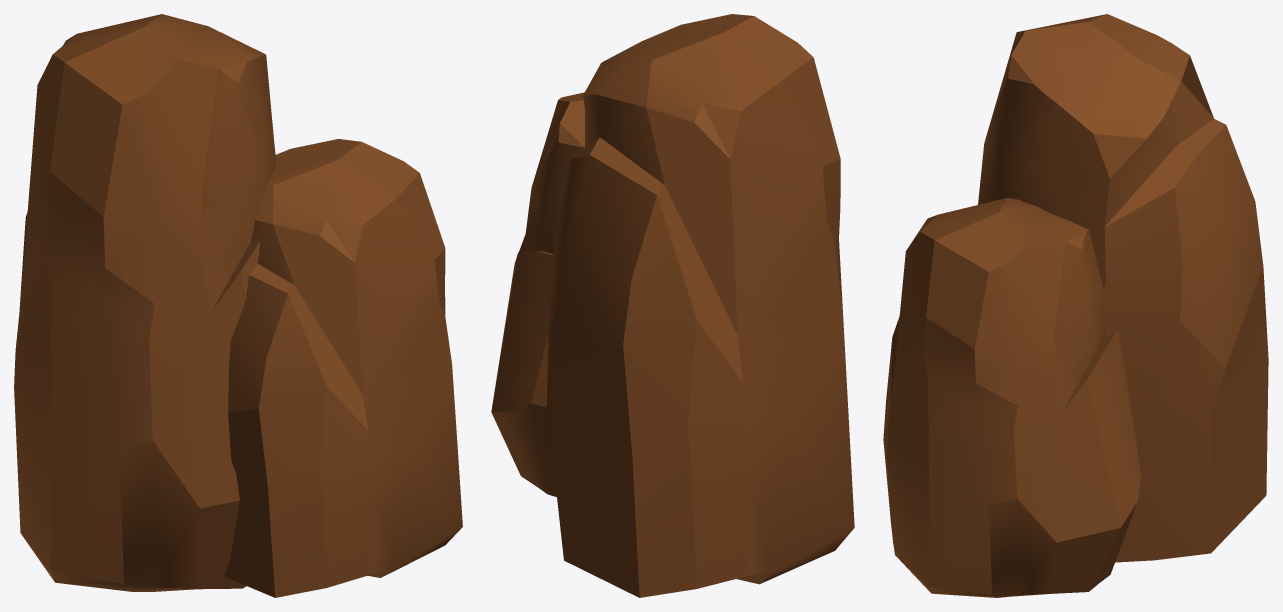
File: asteroid_rock_b.repacked.glb
3 views of the same model, side by side, from view 1: azimuth 30°, elevation 25°; view 2: azimuth 150°, elevation 25°; view 3: azimuth 270°, elevation 25° (orthographic). The views are drawn at different scales.
Visible parts, largest first — view 1: Rock_Large_3; view 2: Rock_Large_3; view 3: Rock_Large_3.
Part boxes in pixels (left/top/right/bottom): Rock_Large_3: left=14, top=14, right=462, bottom=597; Rock_Large_3: left=491, top=14, right=854, bottom=597; Rock_Large_3: left=883, top=14, right=1268, bottom=597.
Bounding box in the file's own units: 5.31 × 7.43 × 5.19.
1 material, 1 textured.
